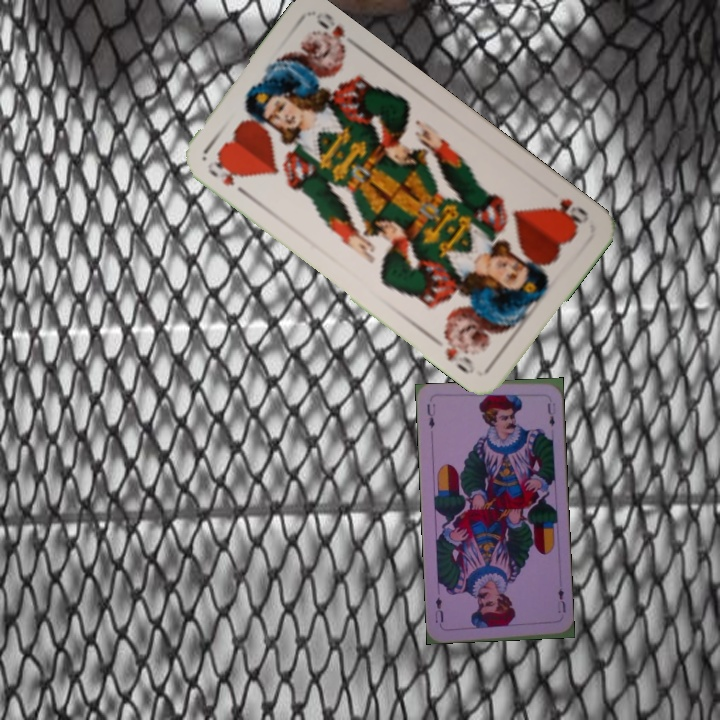EU: (423, 399, 438, 431), (553, 584, 568, 615)
HO: (203, 157, 252, 200), (548, 194, 591, 230)
